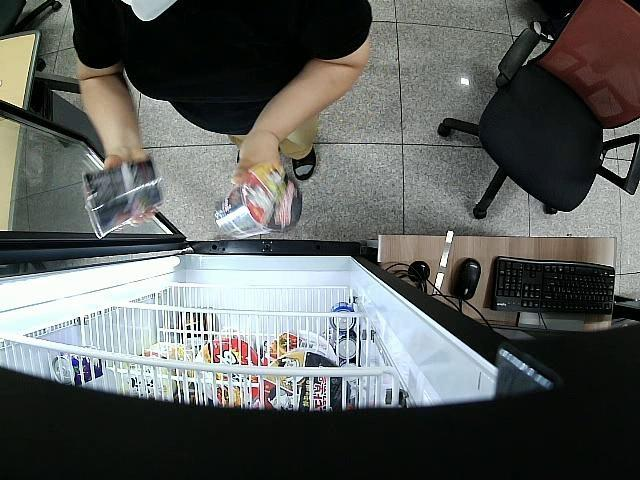08_buldak_S: (214, 162, 302, 242), (82, 157, 164, 240)
